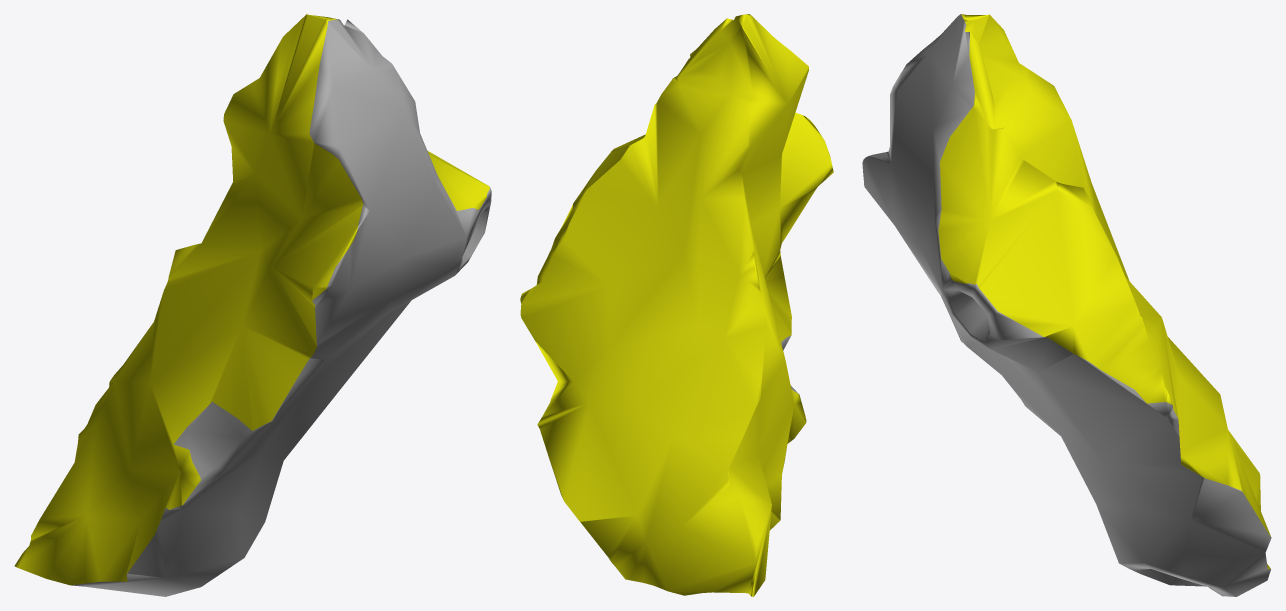
Rendered from Asteroid_01_shard_03.fbx.
3 renders of one model, left to right at view 1: azimuth 30°, elevation 25°; view 2: azimuth 150°, elevation 25°; view 3: azimuth 270°, elevation 25°, orthographic. The views are drawn at different scales.
Parts seen in each view (by area): view 1: Asteroid_01_shard_03; view 2: Asteroid_01_shard_03; view 3: Asteroid_01_shard_03.
Boxes of the visible parts, left/top/right/bottom form: Asteroid_01_shard_03: left=14, top=14, right=491, bottom=596; Asteroid_01_shard_03: left=520, top=14, right=833, bottom=596; Asteroid_01_shard_03: left=862, top=14, right=1271, bottom=596.
Size of the model in its own units: 380 by 677 by 425.
